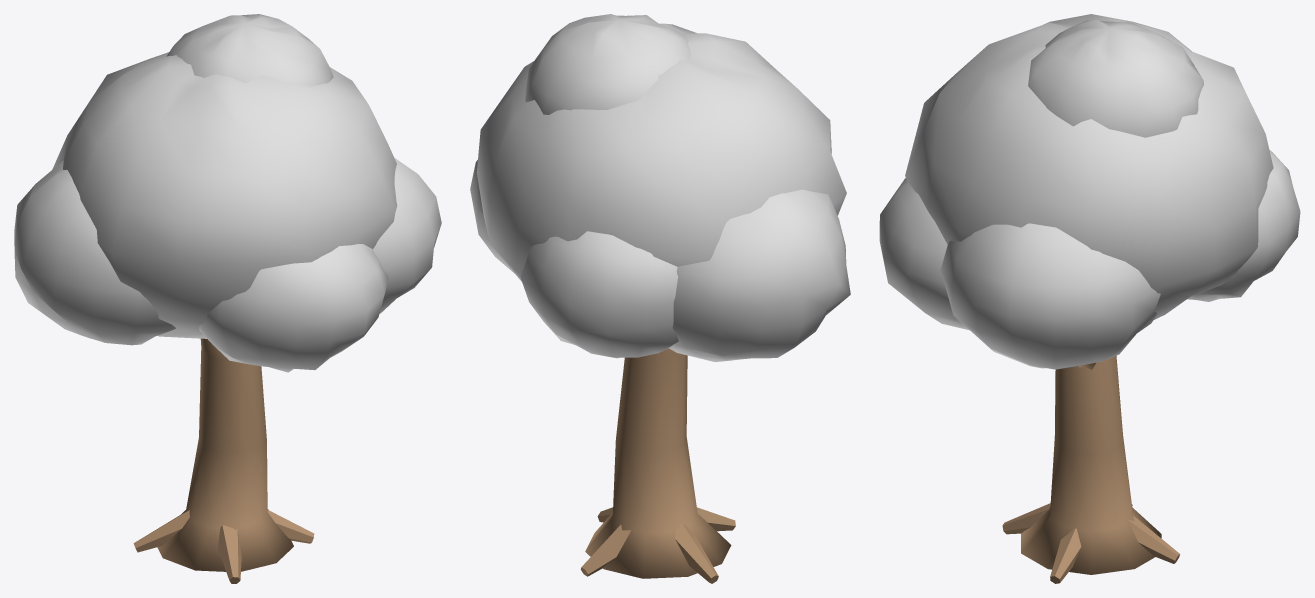
Rendered from tree.glb.
3 renders of one model, left to right at view 1: azimuth 30°, elevation 25°; view 2: azimuth 150°, elevation 25°; view 3: azimuth 270°, elevation 25°, orthographic. The views are drawn at different scales.
Visible parts, largest first — view 1: Tree; view 2: Tree; view 3: Tree.
Boxes of the visible parts, box(x1,y1,x2,y2) form: Tree: box(14, 14, 441, 583); Tree: box(470, 14, 850, 583); Tree: box(879, 14, 1300, 583).
Size of the model in its own units: 3.79 by 4.95 by 3.53.
